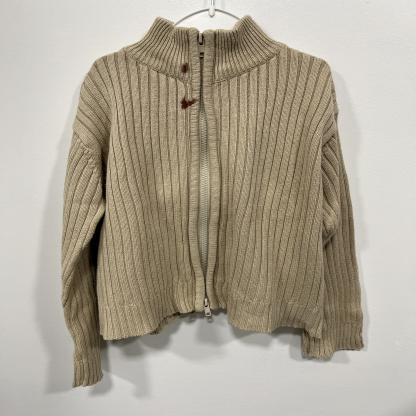stain: (176, 90, 202, 112), (178, 60, 193, 77)
